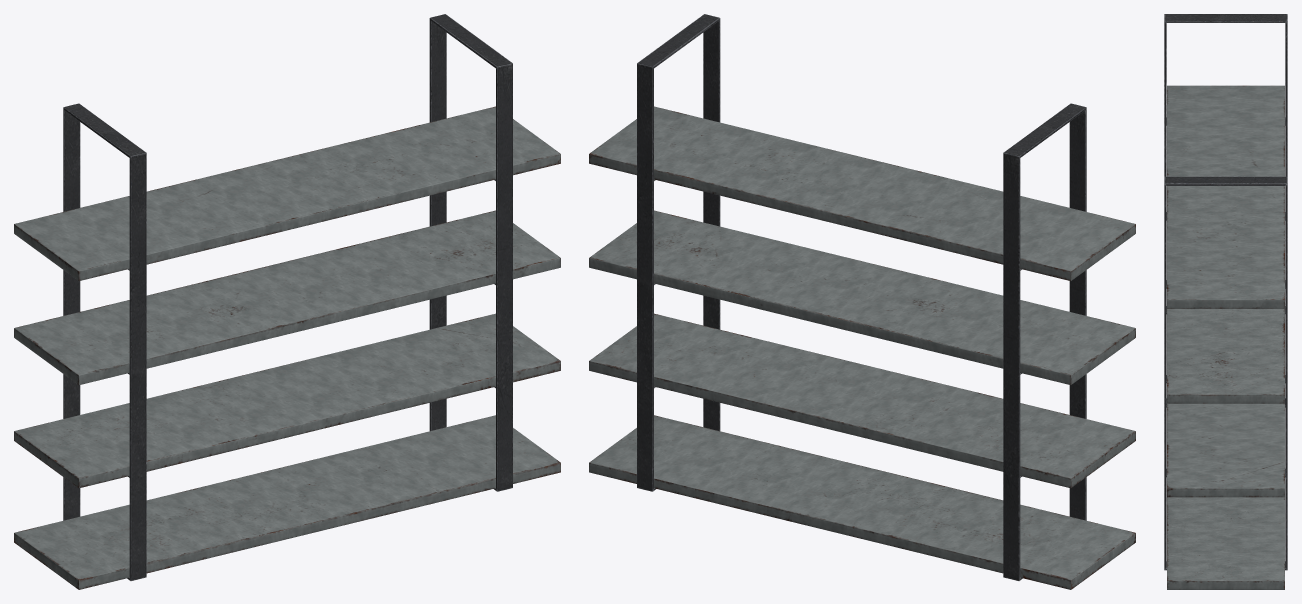
The model's file is steel shelvee.glb.
3 views of the same model, side by side, from view 1: azimuth 30°, elevation 25°; view 2: azimuth 150°, elevation 25°; view 3: azimuth 270°, elevation 25° (orthographic). The views are drawn at different scales.
Parts seen in each view (by area): view 1: Shelves.001; view 2: Shelves.001; view 3: Shelves.001.
Part boxes in pixels (left/top/right/bottom): Shelves.001: left=14, top=14, right=560, bottom=589; Shelves.001: left=589, top=14, right=1135, bottom=589; Shelves.001: left=1164, top=14, right=1287, bottom=589.
Size of the model in its own units: 1.5 by 1.26 by 0.3648.
1 material, 1 textured.
